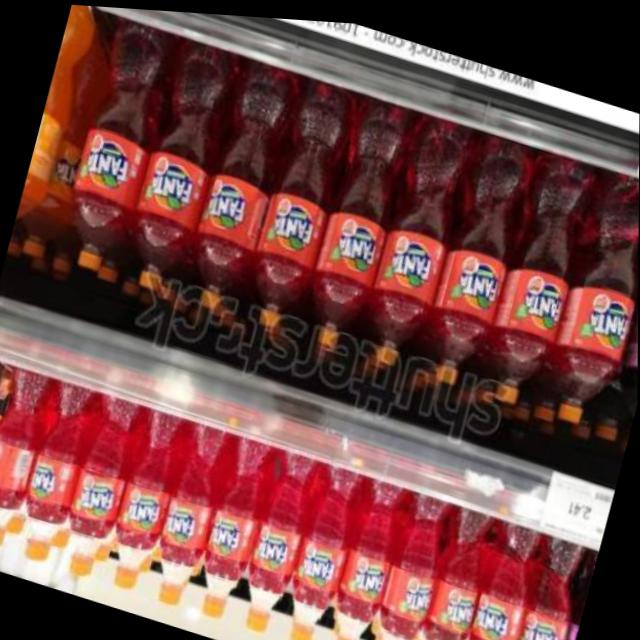Drinks: (415, 118, 540, 389), (475, 137, 600, 407), (54, 8, 179, 278), (293, 85, 418, 354), (354, 102, 479, 370), (235, 67, 359, 337), (114, 31, 238, 300), (176, 49, 300, 317), (538, 153, 639, 424), (51, 385, 146, 583), (186, 427, 277, 622), (232, 441, 323, 636), (143, 413, 232, 609), (100, 400, 188, 593), (10, 375, 98, 566), (275, 456, 366, 640), (320, 466, 411, 640), (363, 481, 454, 640), (408, 494, 496, 640), (452, 508, 543, 640), (498, 521, 589, 640), (0, 362, 56, 553), (605, 168, 639, 432), (542, 536, 599, 640)
